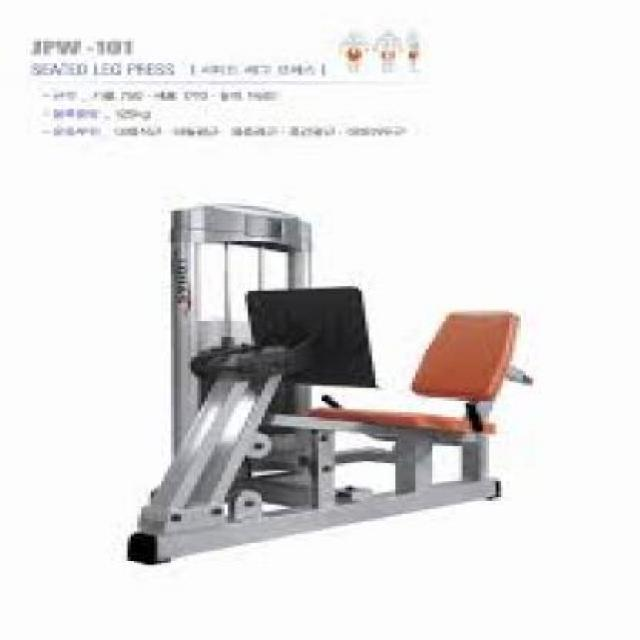leg press: (82, 197, 549, 569)
